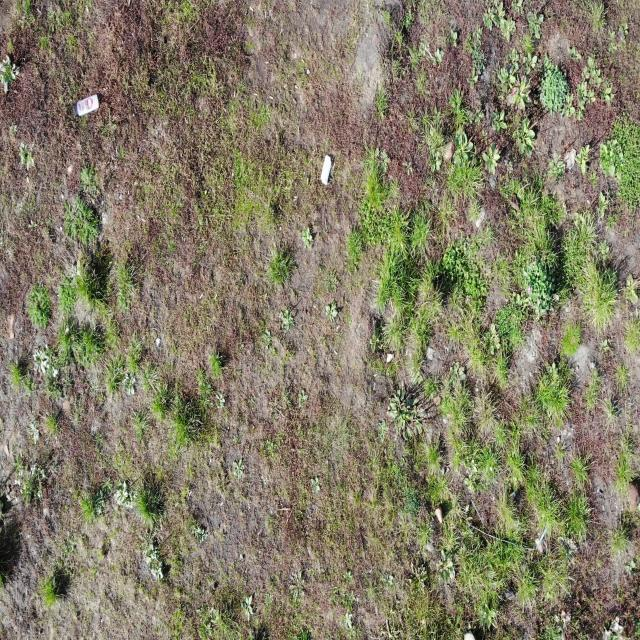rubbish: (76, 91, 104, 116), (319, 153, 333, 187)
